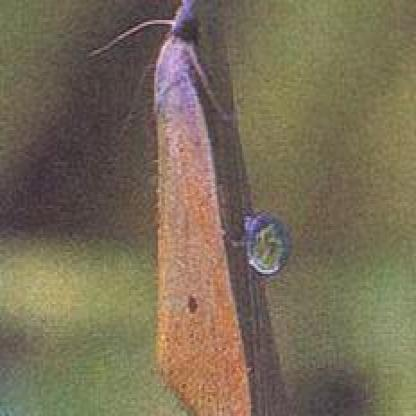stem-borer: (148, 0, 241, 416)
